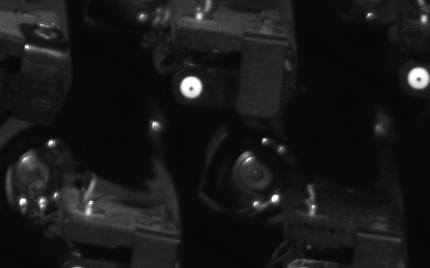fiber: (174, 71, 209, 106), (400, 62, 430, 94)
